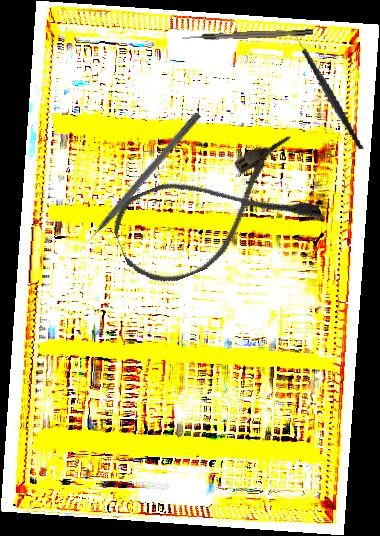Cannula: (104, 133, 325, 296)
Chopper: (284, 23, 365, 159)
Hook Surgical: (181, 29, 314, 41)
Pusher: (75, 110, 202, 254)
